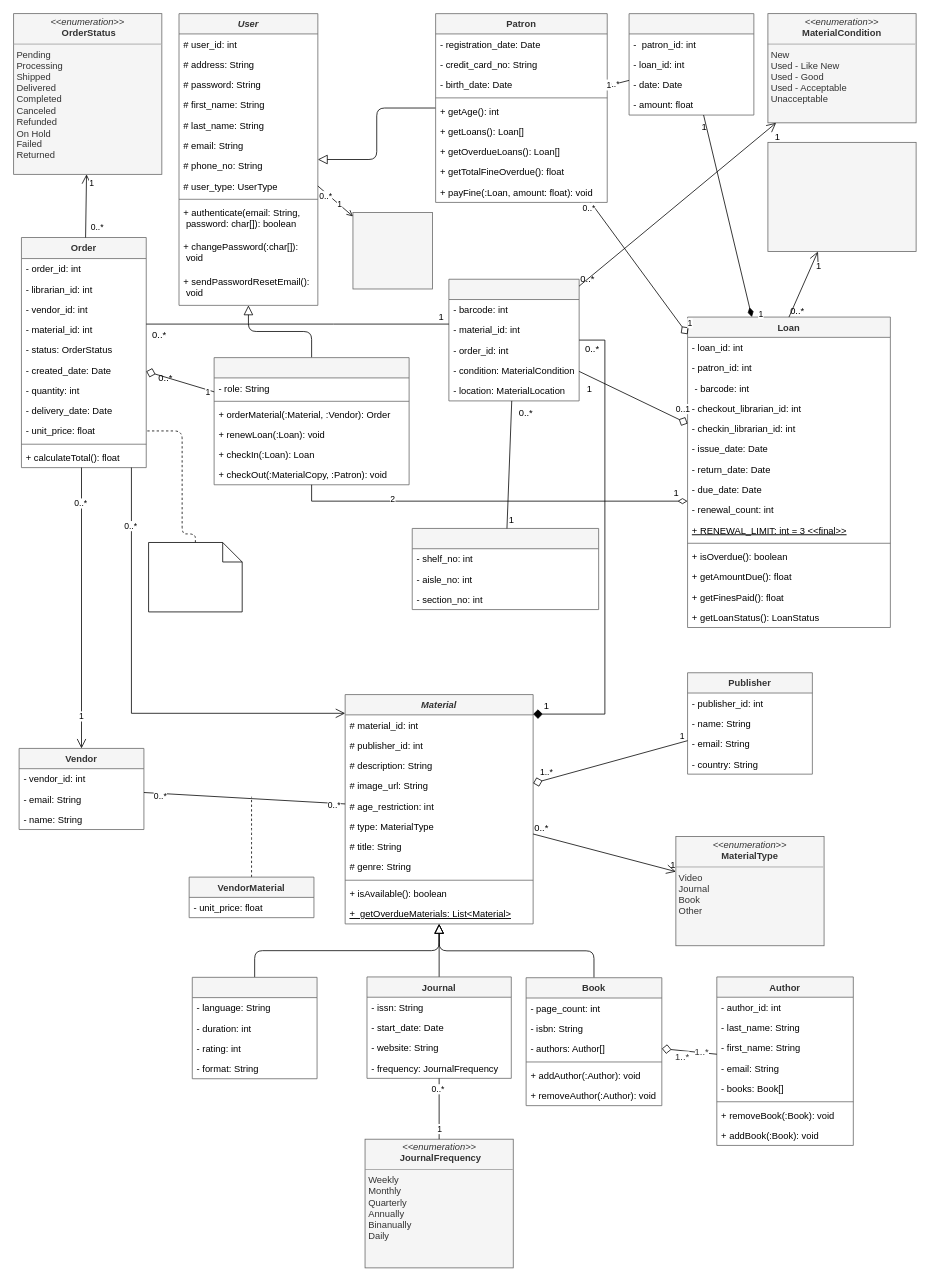
Some shapes in this 930 by 1282 pixel diagram are drawn without their labels. Here are the shapes that lost their labels. From the top down, the box of each, then its label:
(628, 13, 754, 115): Fine
(767, 142, 916, 252): <<enumeration>> LoanStatus Returned Overdue Borrowed Damaged
(352, 212, 433, 289): <<enumeration>> UserType librarian patron
(448, 278, 579, 401): MaterialCopy
(213, 357, 409, 485): Librarian
(148, 542, 242, 612): unit_price is retrieved from VendorMaterial table
(411, 528, 599, 610): MaterialLocation
(191, 977, 317, 1079): Video
